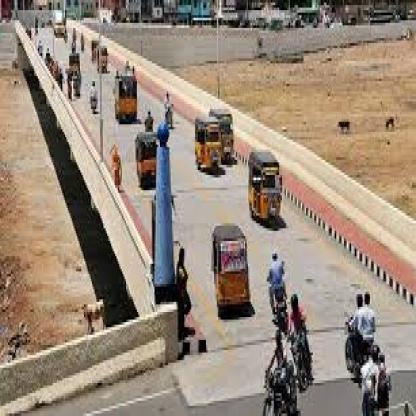car: (195, 219, 254, 325), (244, 140, 283, 247), (130, 120, 167, 196), (189, 106, 224, 181), (110, 66, 150, 128)
